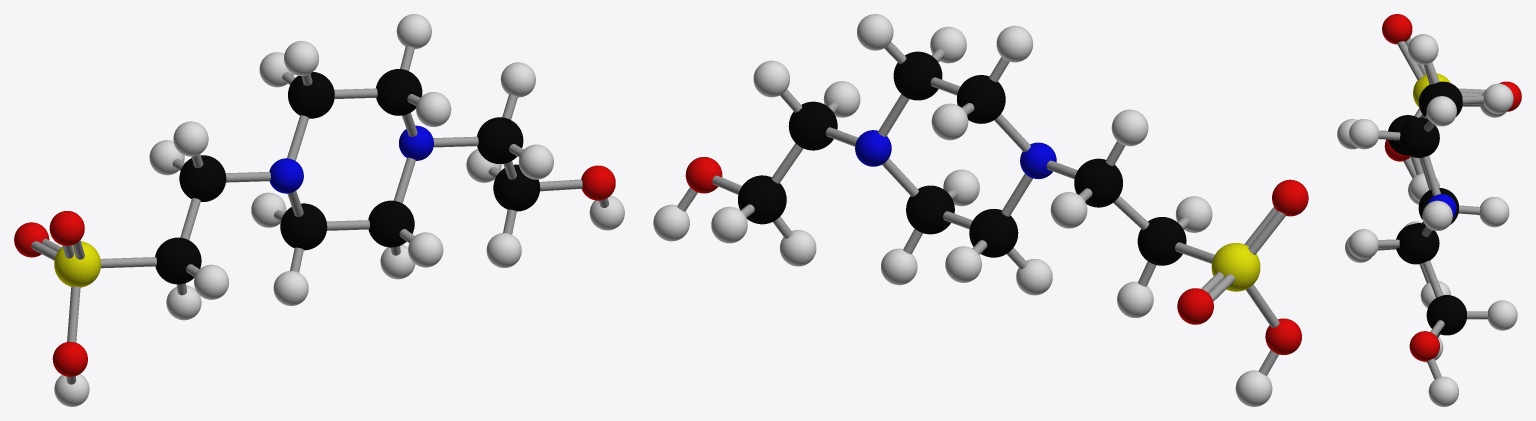
The model's file is HEPES.glb.
The picture shows the model from 3 angles, left to right: view 1: azimuth 30°, elevation 25°; view 2: azimuth 150°, elevation 25°; view 3: azimuth 270°, elevation 25°; orthographic projection. The views are drawn at different scales.
Visible parts, largest first — view 1: world; view 2: world; view 3: world.
Boxes of the visible parts, x1,y1,x2,y2 form: world: [14, 14, 624, 406]; world: [653, 14, 1308, 406]; world: [1337, 14, 1521, 406].
Size of the model in its own units: 11.76 by 5.77 by 3.64.
